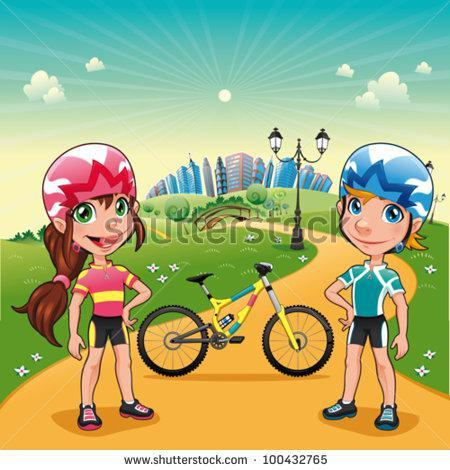bicycle: (131, 259, 341, 385)
person: (16, 137, 154, 426), (308, 128, 432, 432)
